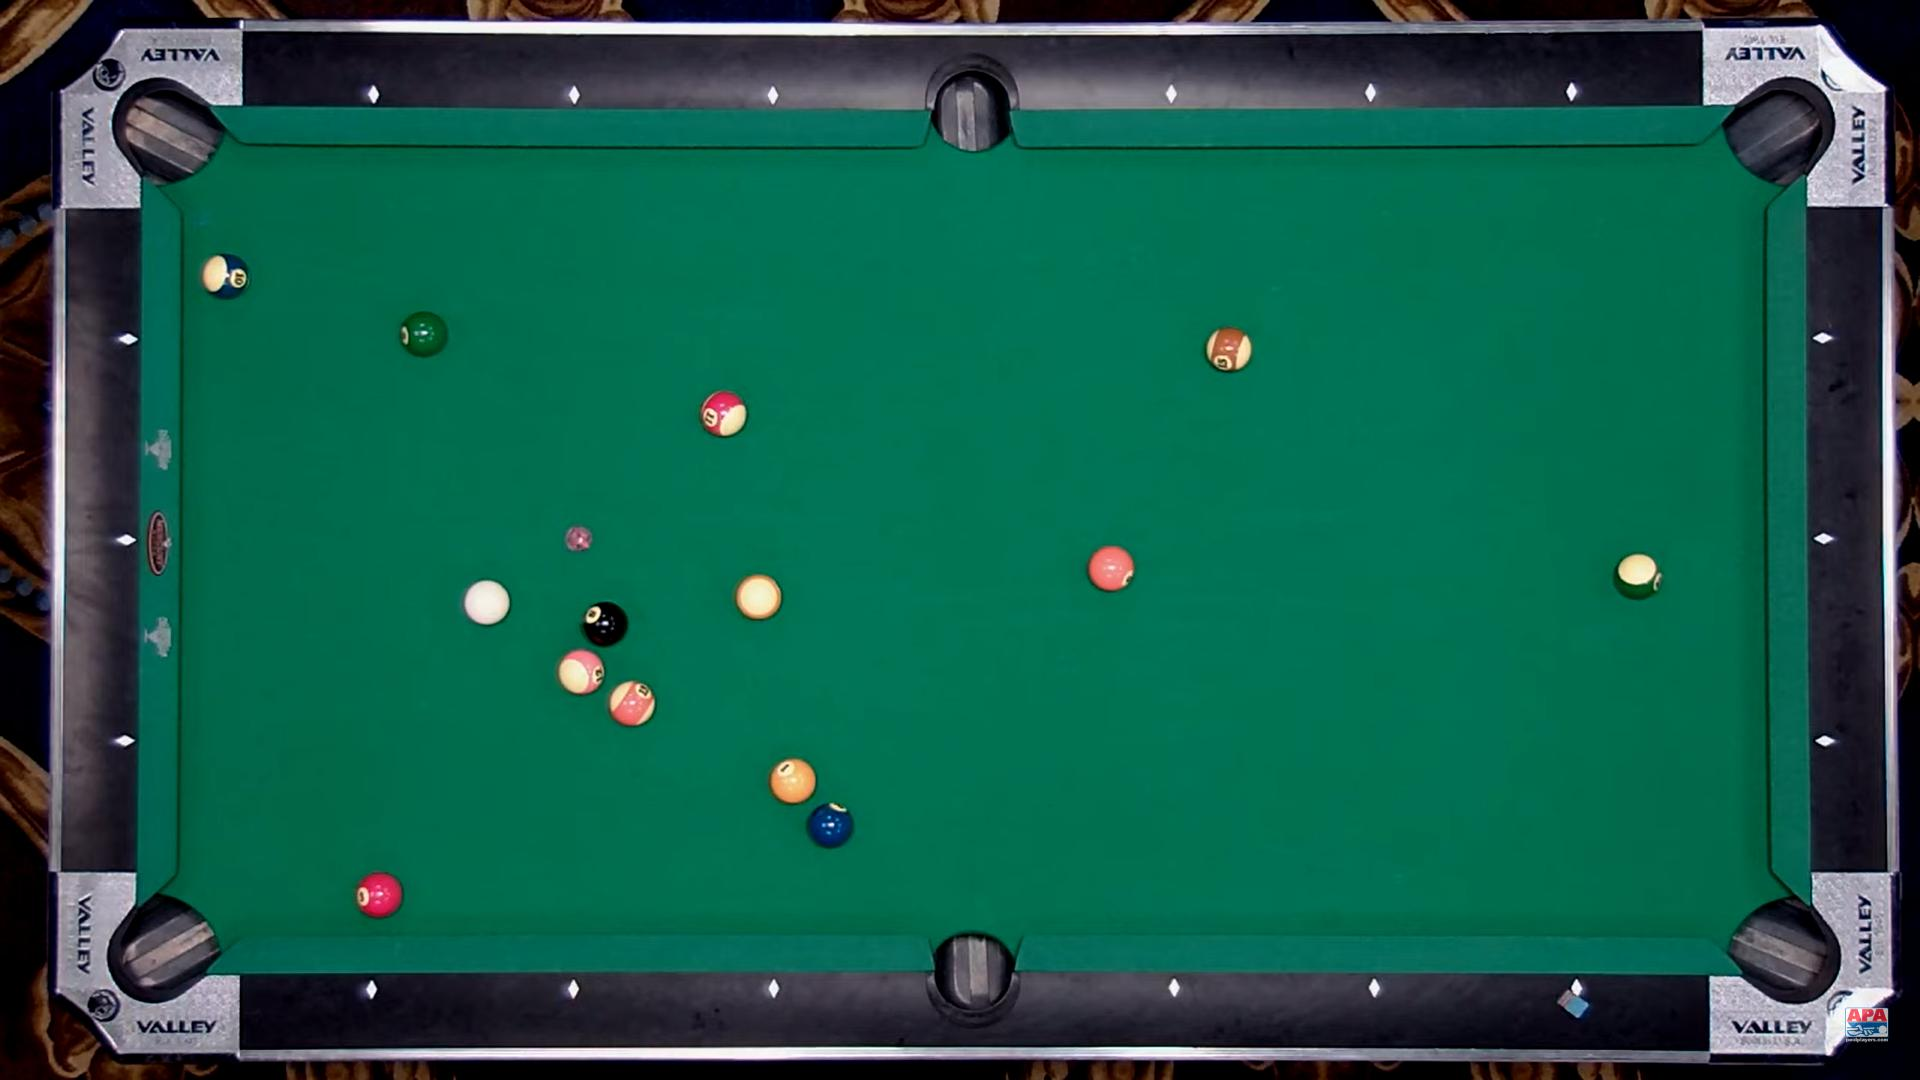Black: (584, 601, 629, 646)
Cue: (464, 580, 510, 625)
Dot: (117, 735, 132, 749), (367, 87, 381, 102), (1163, 87, 1178, 102), (1364, 86, 1378, 100), (1817, 331, 1832, 345), (1817, 533, 1832, 547), (120, 534, 133, 549), (121, 332, 135, 347), (766, 88, 779, 103), (1565, 86, 1578, 100), (1569, 981, 1582, 996), (1367, 981, 1381, 996), (1166, 981, 1180, 994), (767, 981, 781, 996), (566, 981, 579, 996), (363, 984, 377, 997), (567, 88, 580, 102), (1818, 736, 1832, 749)
Solid: (400, 311, 448, 357), (806, 803, 855, 848), (1088, 546, 1134, 591), (770, 758, 816, 803), (357, 873, 404, 918)
Striped: (1611, 553, 1662, 600), (700, 390, 748, 438), (609, 680, 657, 727), (202, 252, 249, 298), (559, 649, 607, 694), (1207, 327, 1251, 373)
